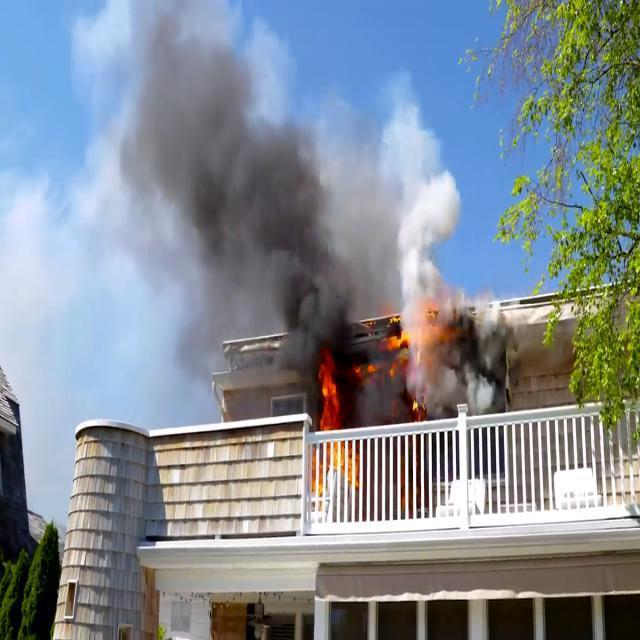Fire: (312, 353, 347, 432), (382, 310, 409, 370)
Smoke: (81, 0, 361, 365), (344, 113, 526, 424)
